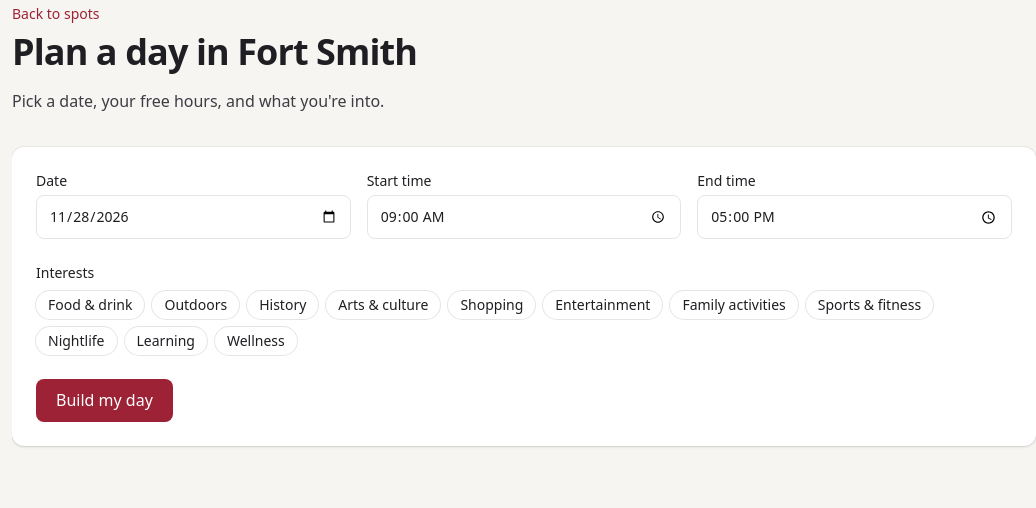
Test: a time window under 3 hours shows an error and builds nothing
Replace the text in the time field labelled "Start time" with "15:00": (524, 217) left=367, top=195, right=681, bottom=239
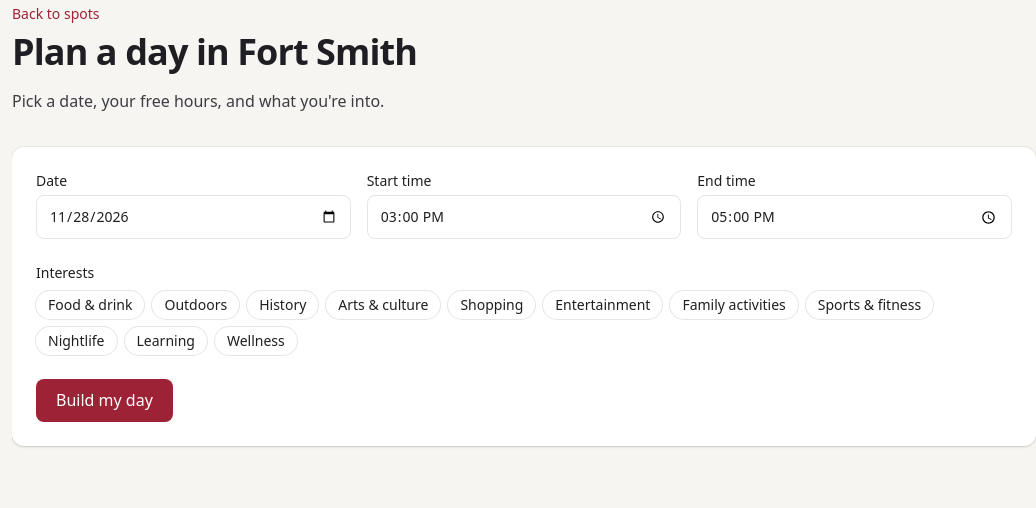
Click the button "Build my day": (104, 401) left=36, top=379, right=173, bottom=422
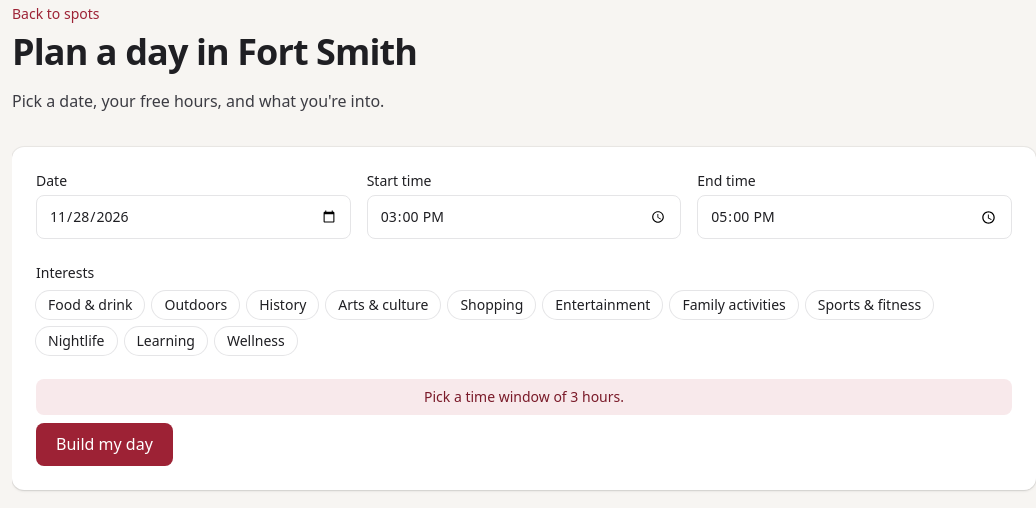
Expected: the text "Pick a time window of 3 hours." is shown, left=36, top=379, right=1012, bottom=415
